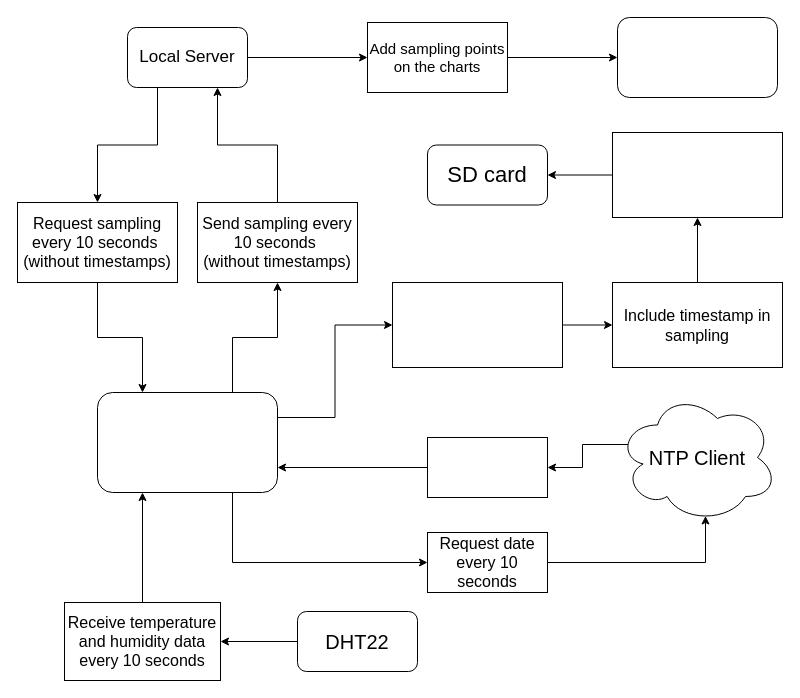
Image size: 800x698. Some labels were removed from this diagram. Each missing label, with the box of its shape:
ESP32: (96, 392, 278, 492)
Extract timestamp from date: (392, 282, 562, 368)
Real-time visualization of sensor data: (616, 16, 778, 98)
Send date every 10 seconds: (426, 436, 548, 498)
Store sampling with timestamp: (612, 132, 782, 218)
